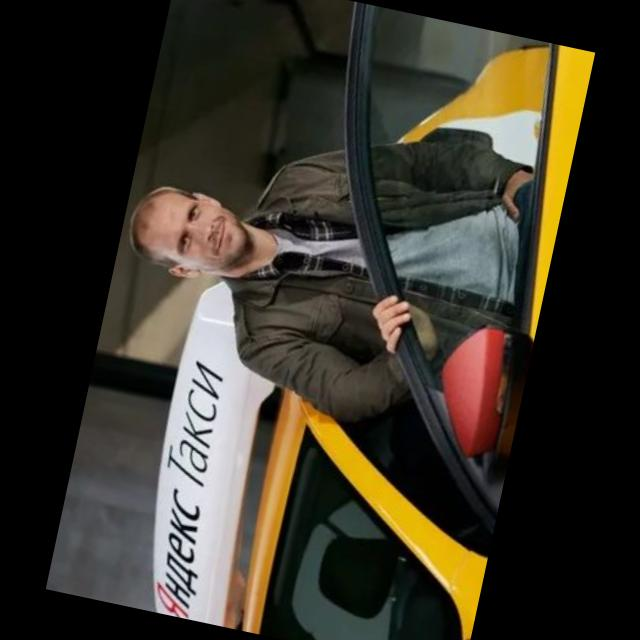taxi: (126, 1, 596, 640)
